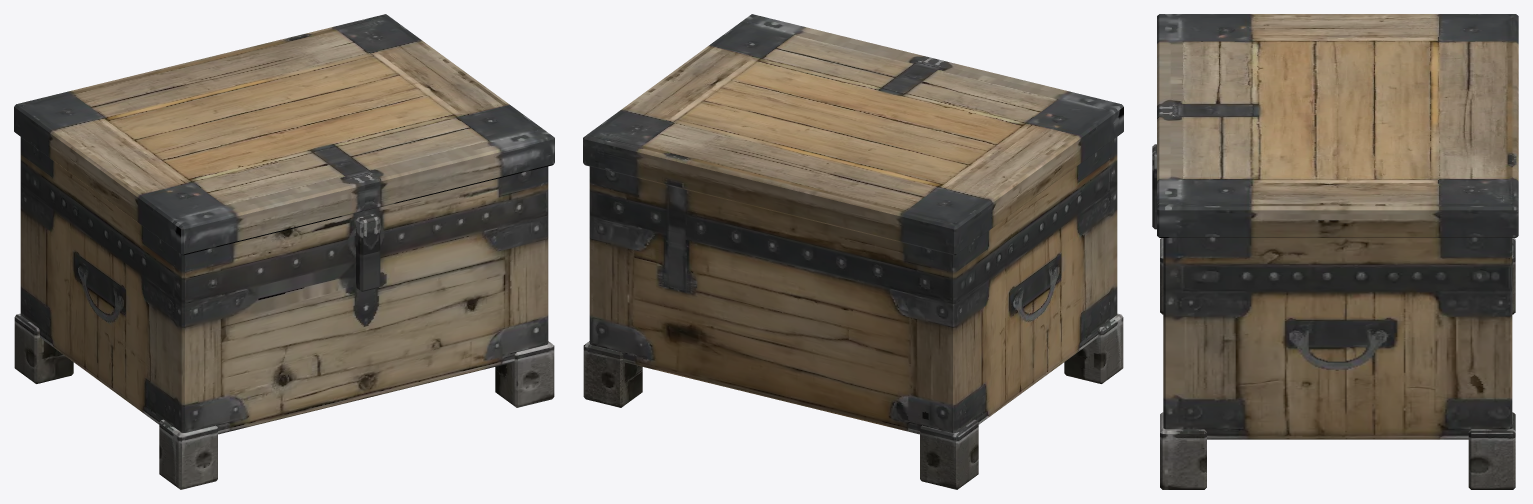
The model's file is chest-banded.glb.
3 renders of one model, left to right at view 1: azimuth 30°, elevation 25°; view 2: azimuth 150°, elevation 25°; view 3: azimuth 270°, elevation 25°, orthographic. The views are drawn at different scales.
Parts seen in each view (by area): view 1: chest-banded; view 2: chest-banded; view 3: chest-banded.
Boxes of the visible parts, x1,y1,x2,y2 form: chest-banded: (14,14,554,489); chest-banded: (583,14,1123,489); chest-banded: (1152,14,1518,489).
Bounding box in the file's own units: 0.743 × 0.5 × 0.5875.
Materials: 1 (1 with a texture image).
